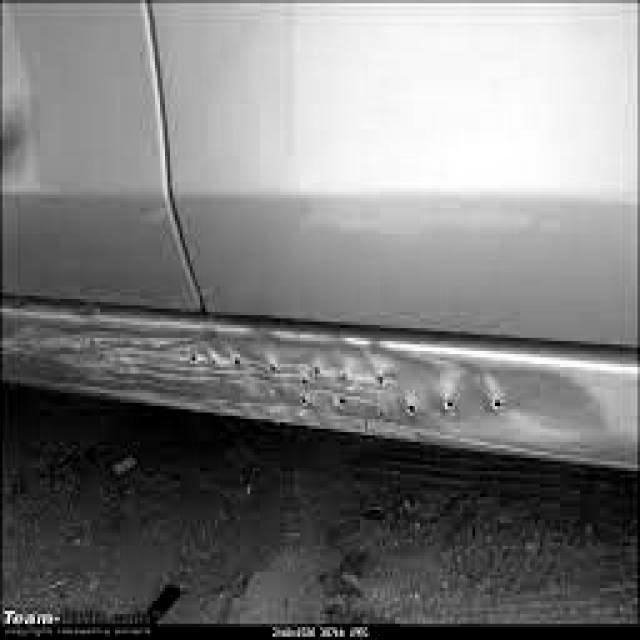Runningboard-Damage: (6, 305, 623, 457)
